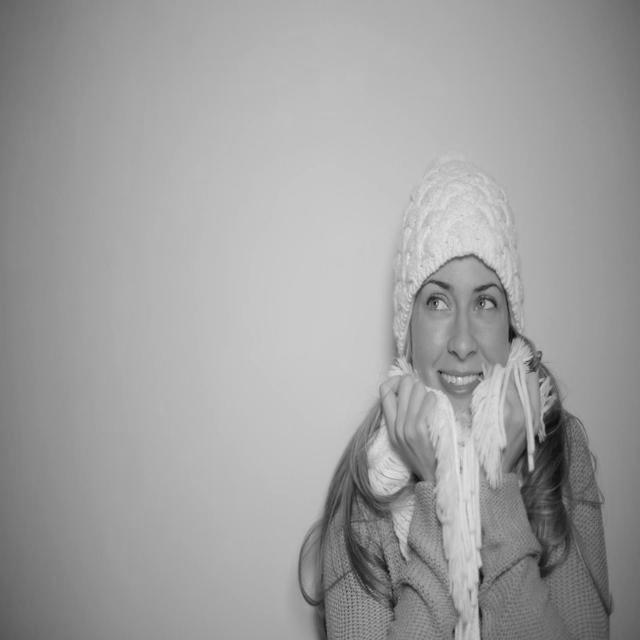Happiness: (406, 253, 512, 417)
